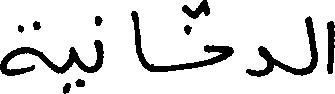X: (0, 16, 42, 80), (206, 0, 233, 70), (248, 41, 272, 81), (304, 11, 318, 79), (131, 6, 145, 73), (96, 11, 103, 76), (327, 16, 334, 78), (70, 42, 77, 92)
